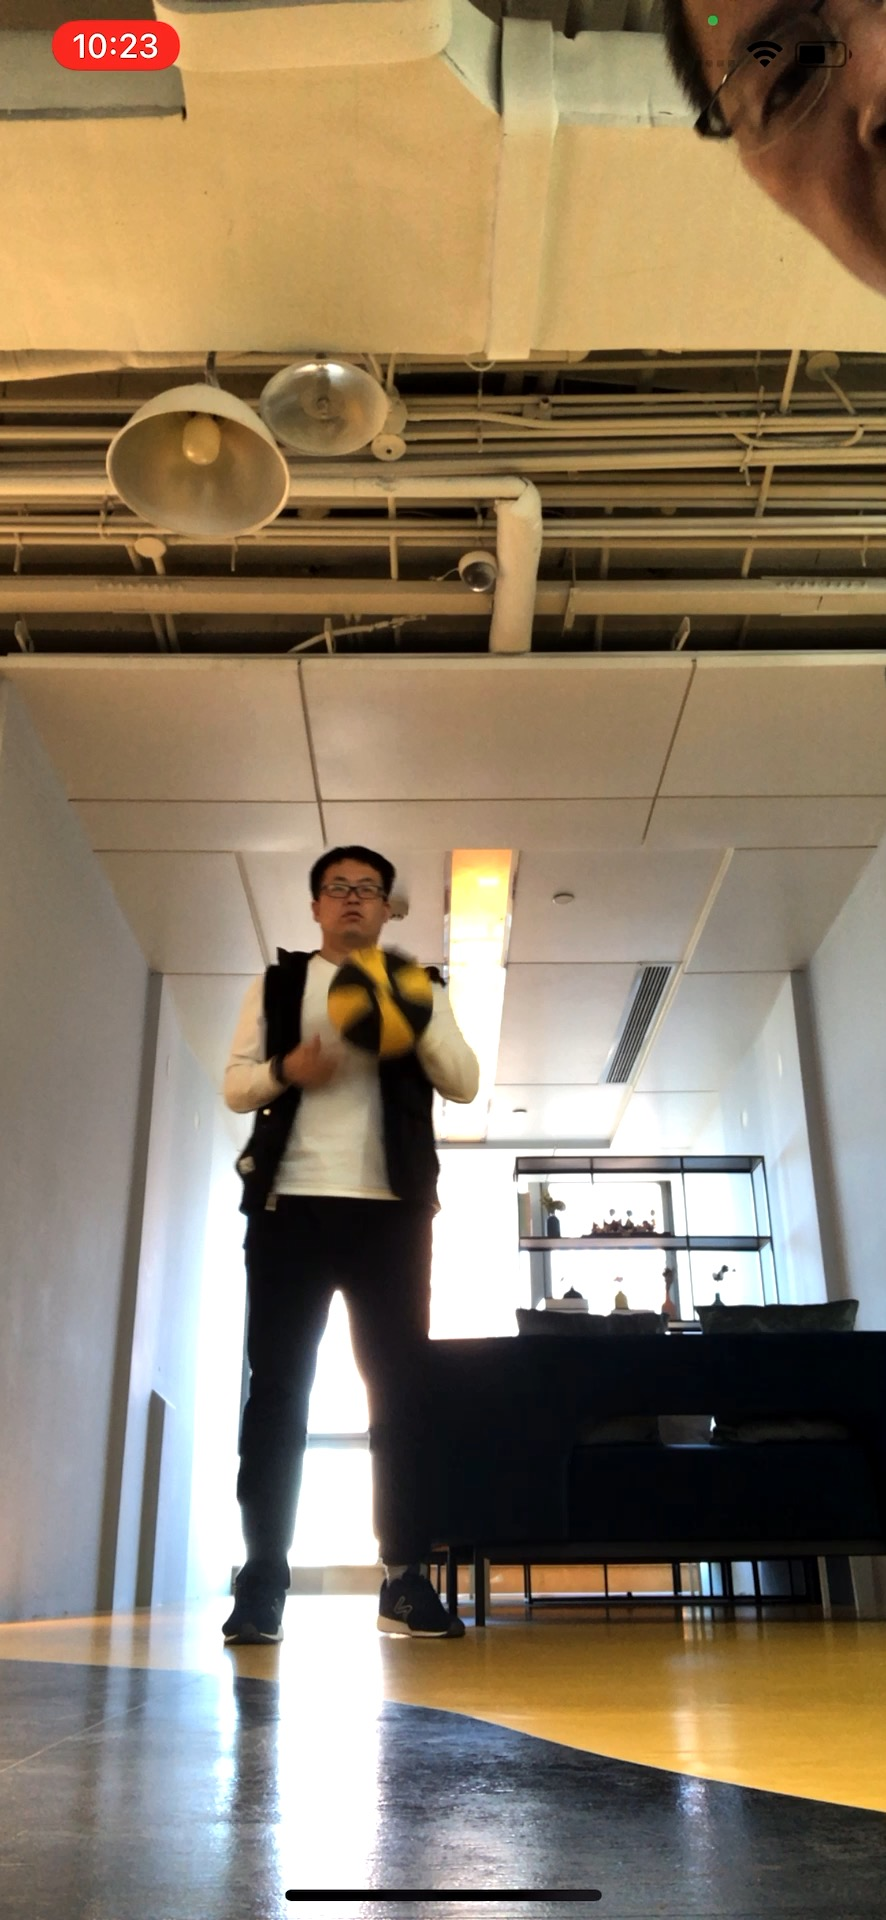ball: (327, 940, 433, 1060)
